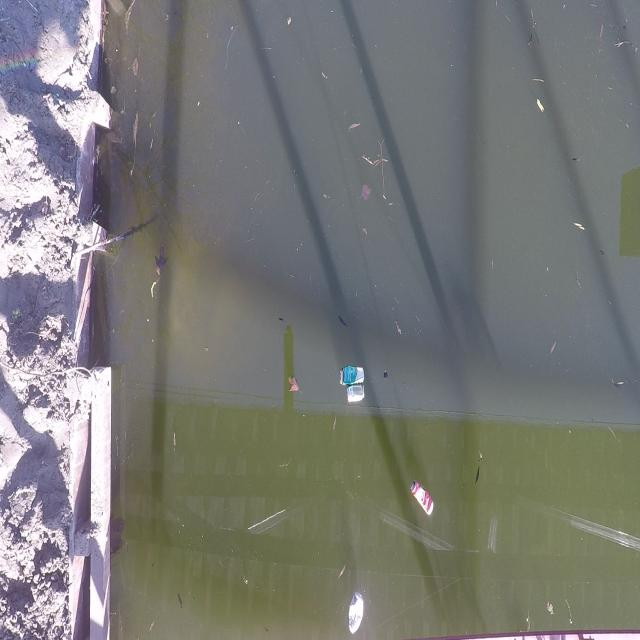Non plastique: (413, 482, 434, 515), (349, 593, 363, 634), (341, 368, 365, 383), (347, 386, 364, 401)
